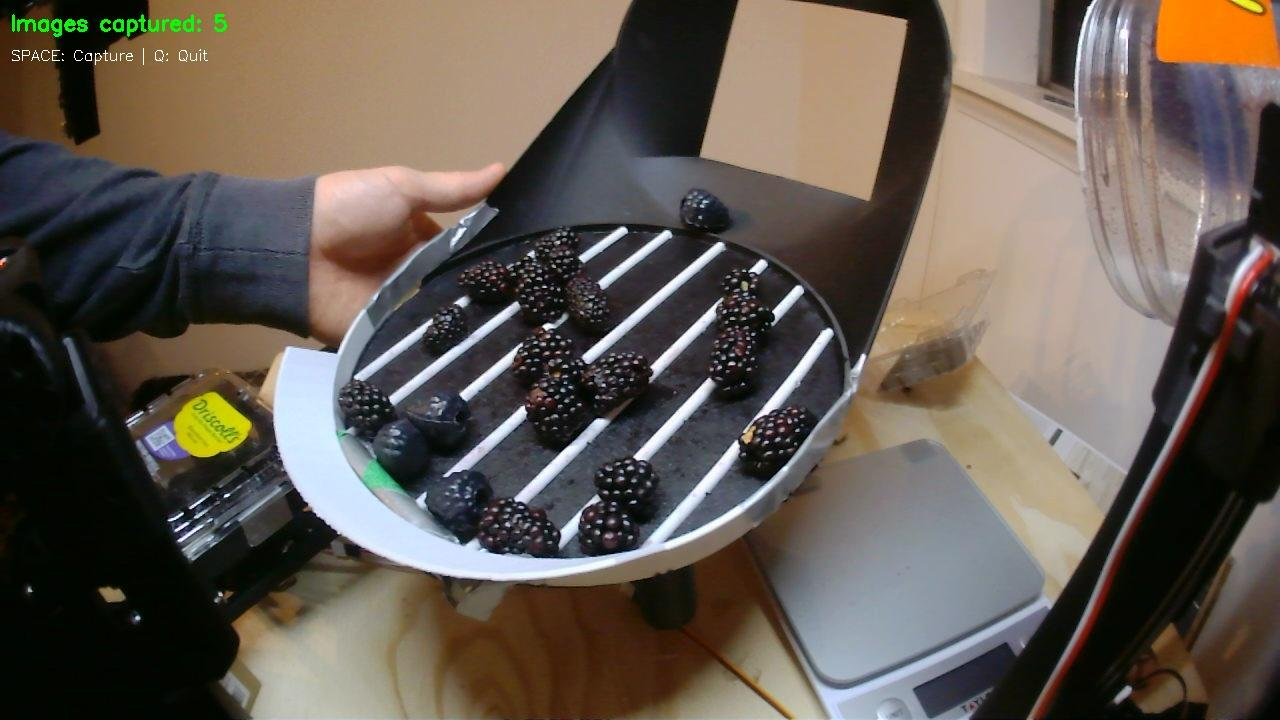berry: (738, 405, 816, 479), (426, 470, 493, 541), (525, 376, 593, 445), (479, 498, 559, 556), (594, 457, 658, 522), (584, 352, 651, 413), (512, 327, 574, 384), (407, 393, 470, 449), (337, 379, 396, 437), (374, 420, 429, 481), (709, 328, 757, 397), (578, 503, 637, 553), (517, 266, 565, 324), (566, 273, 610, 332), (457, 259, 514, 303), (717, 290, 773, 334), (422, 304, 468, 353), (681, 189, 730, 230), (533, 226, 579, 263), (534, 356, 586, 385), (545, 246, 581, 284), (507, 255, 545, 289), (720, 268, 759, 293)
